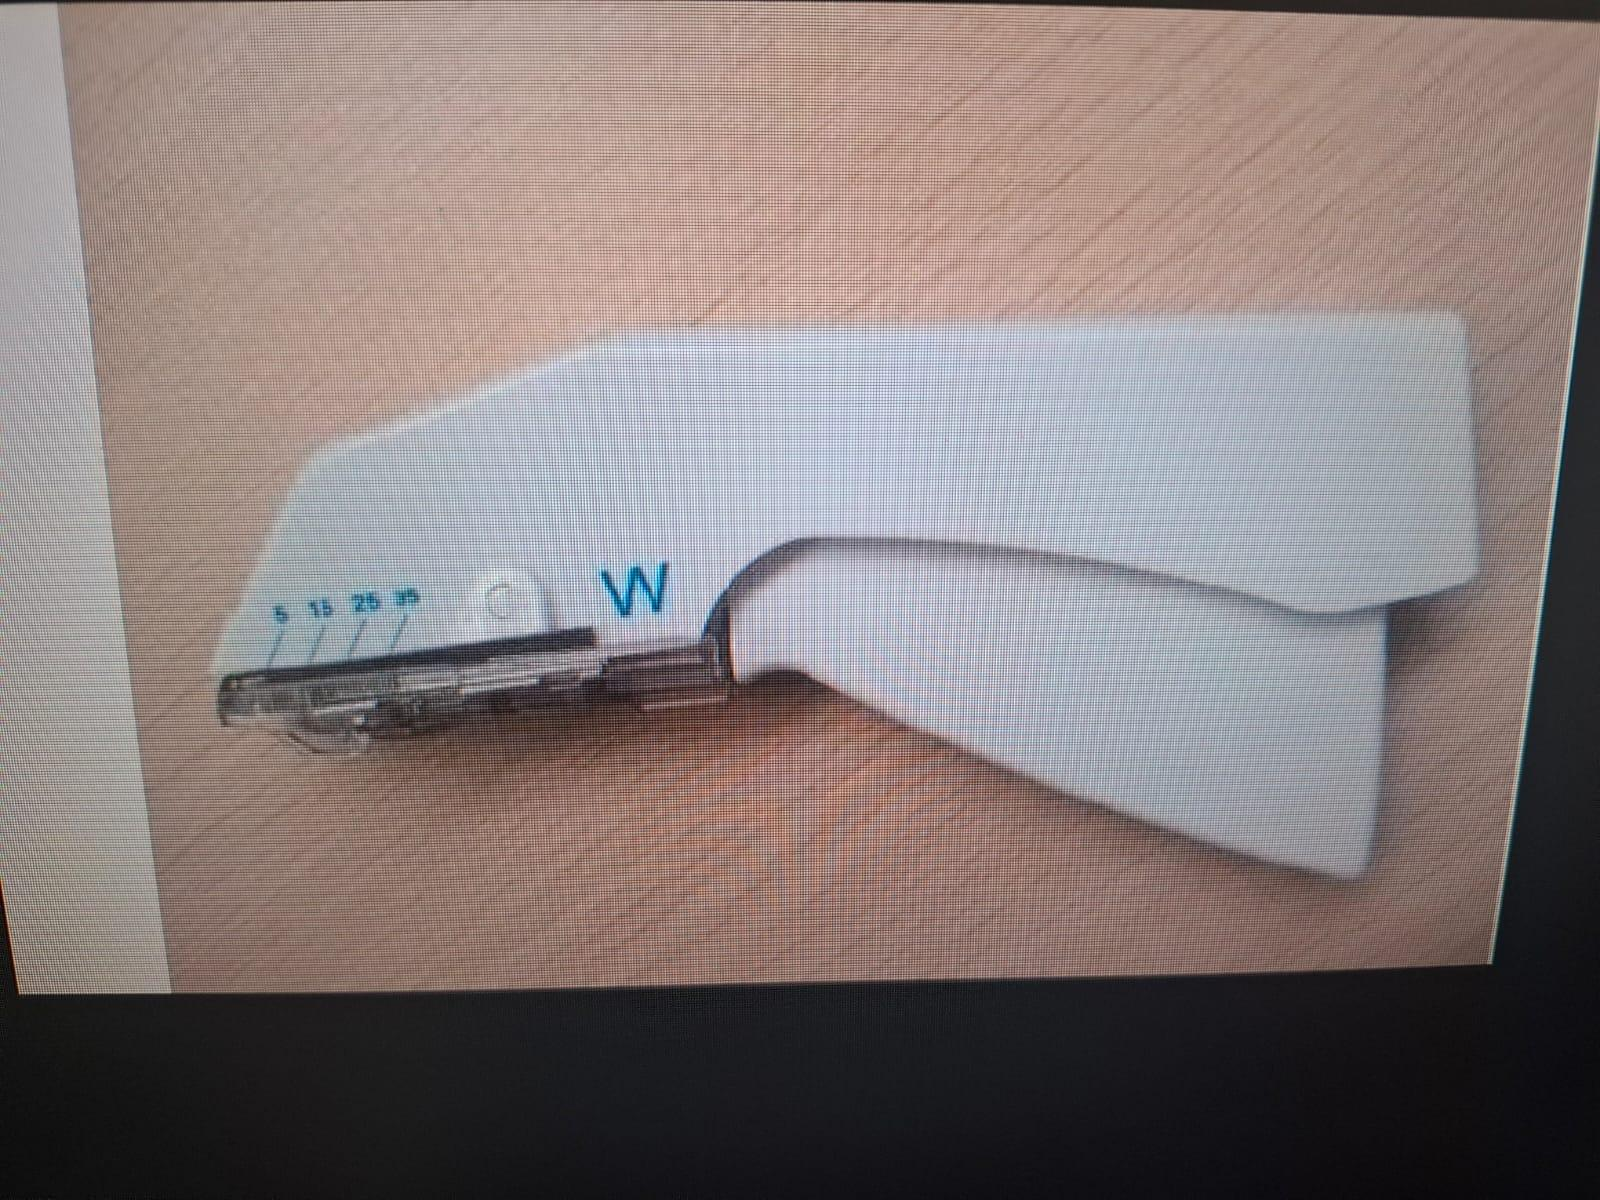Skin Stapler: (202, 282, 1494, 910)
